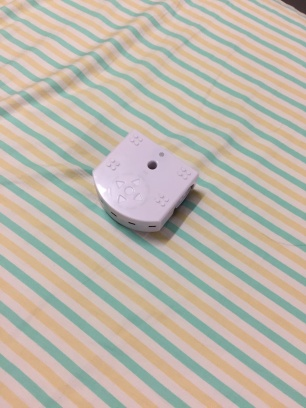thymio: (85, 126, 200, 238)
